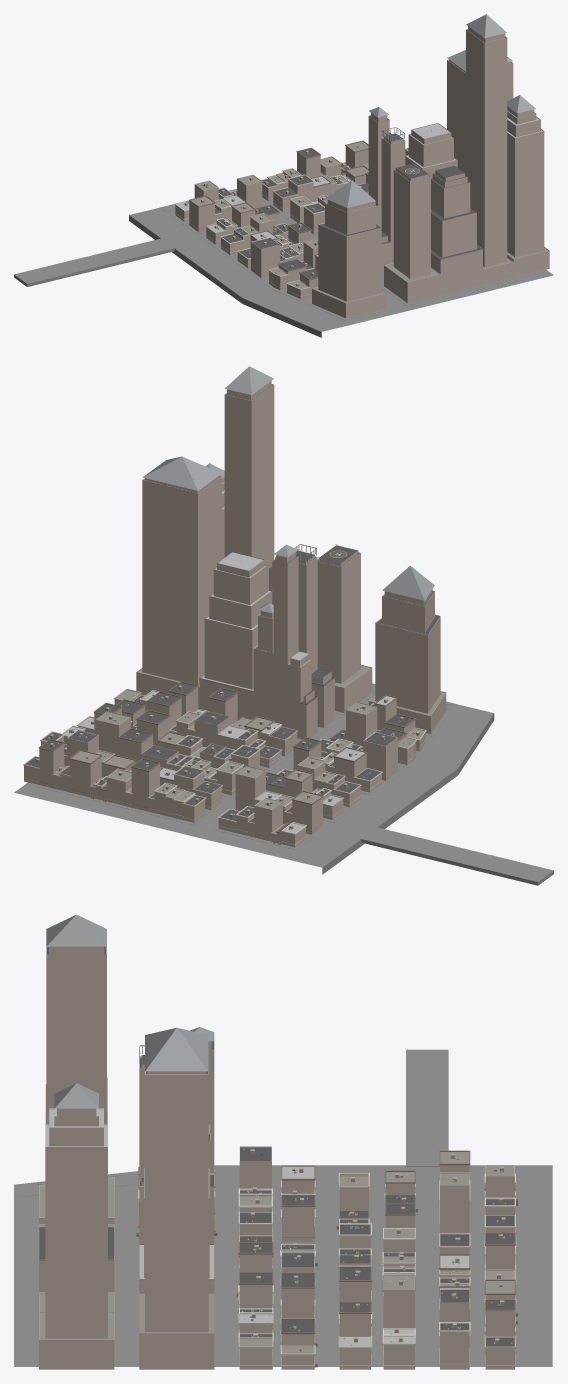
3 renders of one model, top to bottom at view 1: azimuth 30°, elevation 25°; view 2: azimuth 150°, elevation 25°; view 3: azimuth 270°, elevation 25°, orthographic. The views are drawn at different scales.
Visible parts, largest first — view 1: t06_facade, t06_ground, t06_roof, t06_detail; view 2: t06_facade, t06_ground, t06_roof, t06_detail; view 3: t06_facade, t06_ground, t06_roof, t06_detail.
Boxes of the visible parts, x1,y1,x2,y2 form: t06_facade: (175,26,549,318); t06_ground: (14,162,553,337); t06_roof: (176,14,547,302); t06_detail: (175,29,549,302); t06_facade: (24,381,446,847); t06_ground: (14,683,553,885); t06_roof: (25,366,445,833); t06_detail: (23,384,445,844); t06_facade: (39,946,514,1369); t06_ground: (14,1049,552,1366); t06_roof: (39,914,514,1353); t06_detail: (38,946,517,1367).
Bounding box in the file's own units: 604 × 374 × 431.
